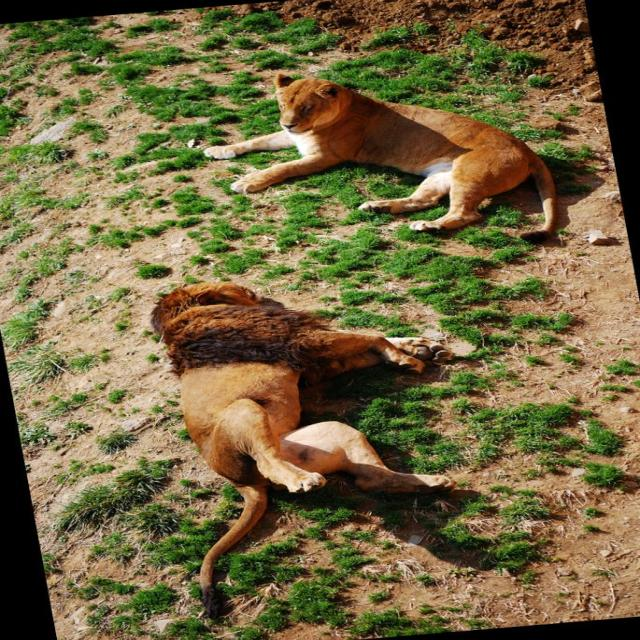Lion: (145, 262, 501, 620), (189, 52, 566, 266)
